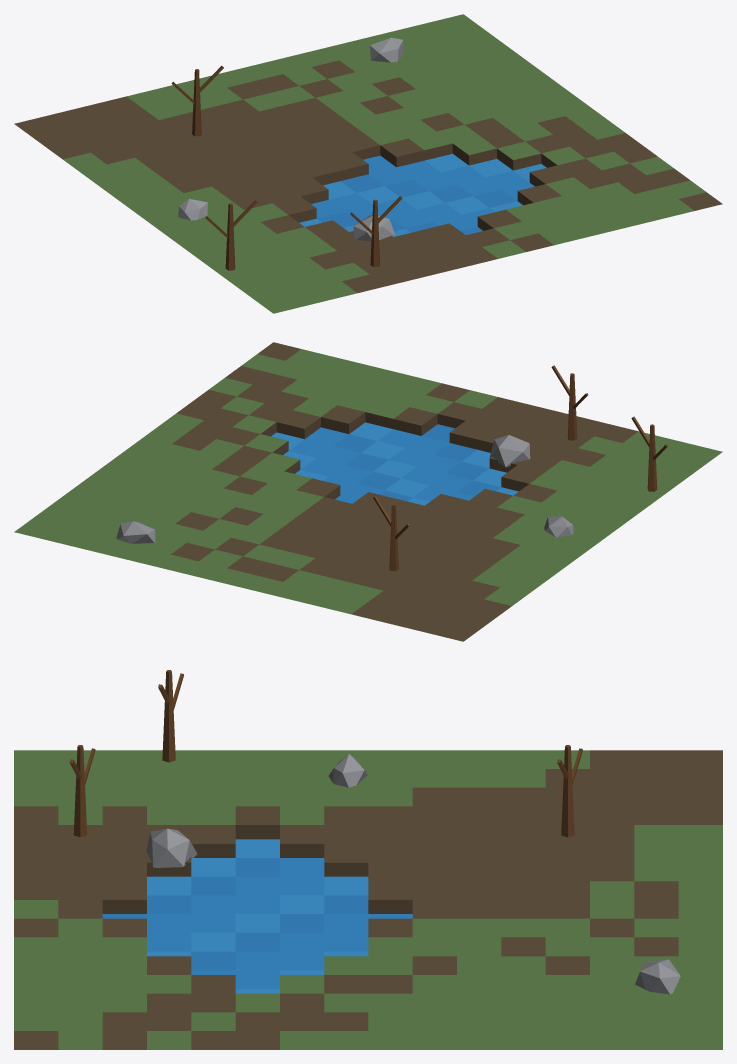
Rendered from chunk_0_15.glb.
The picture shows the model from 3 angles, top to bottom: view 1: azimuth 30°, elevation 25°; view 2: azimuth 150°, elevation 25°; view 3: azimuth 270°, elevation 25°; orthographic projection. The views are drawn at different scales.
Parts seen in each view (by area): view 1: chunk_0_15; view 2: chunk_0_15; view 3: chunk_0_15.
Boxes of the visible parts, <box> form: chunk_0_15: <box>14,14,722,313</box>; chunk_0_15: <box>14,342,722,641</box>; chunk_0_15: <box>14,670,722,1049</box>.
Size of the model in its own units: 16.24 by 2.66 by 16.
